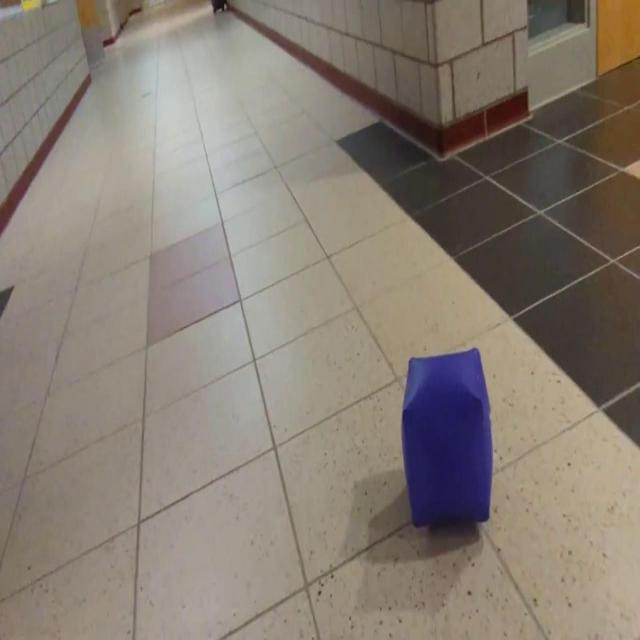frc_cube: (402, 346, 494, 527)
